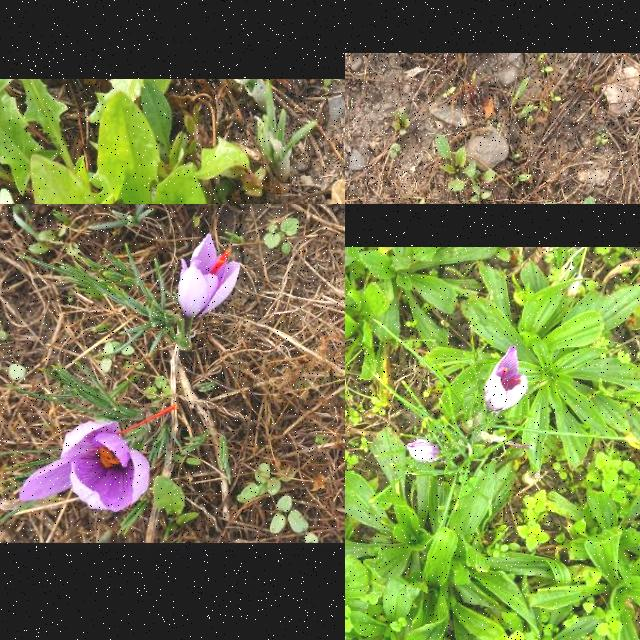flower: (21, 406, 175, 512), (179, 232, 241, 320), (484, 345, 528, 415), (406, 439, 442, 463)
